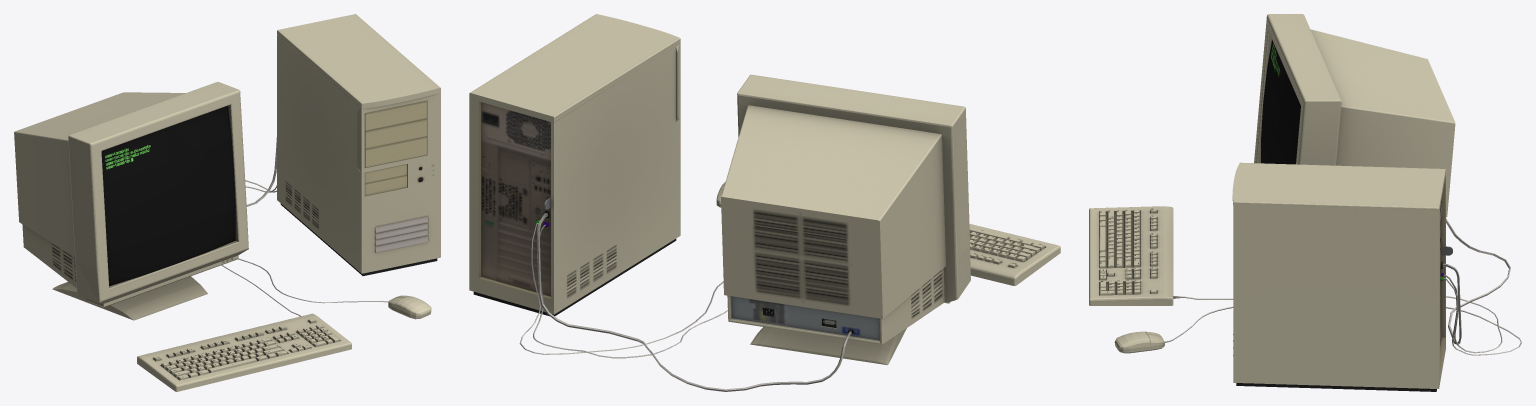
3 renders of one model, left to right at view 1: azimuth 30°, elevation 25°; view 2: azimuth 150°, elevation 25°; view 3: azimuth 270°, elevation 25°, orthographic. The views are drawn at different scales.
Visible parts, largest first — view 1: retro_computer_setup_retro_compu; view 2: retro_computer_setup_retro_compu; view 3: retro_computer_setup_retro_compu.
Part boxes in pixels (x1,y1,x2,y2): retro_computer_setup_retro_compu: (14,14,440,391); retro_computer_setup_retro_compu: (469,14,1060,391); retro_computer_setup_retro_compu: (1089,14,1521,391).
Bounding box in the file's own units: 96.81 × 96.94 × 49.28.
